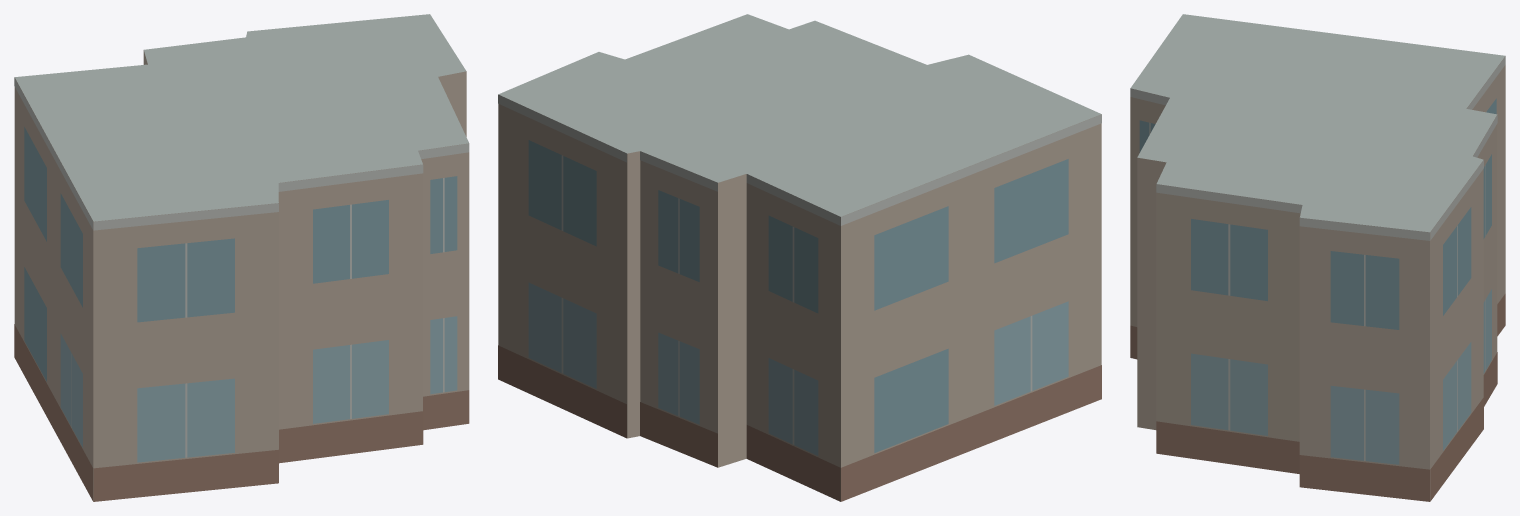
The model's file is survey-upis-32710867.glb.
3 views of the same model, side by side, from view 1: azimuth 30°, elevation 25°; view 2: azimuth 150°, elevation 25°; view 3: azimuth 270°, elevation 25° (orthographic). The views are drawn at different scales.
Parts seen in each view (by area): view 1: survey-upis-32710867.tmp; view 2: survey-upis-32710867.tmp; view 3: survey-upis-32710867.tmp.
Part boxes in pixels (x1,y1,x2,y2): survey-upis-32710867.tmp: [14, 14, 469, 501]; survey-upis-32710867.tmp: [498, 14, 1101, 501]; survey-upis-32710867.tmp: [1130, 14, 1505, 501].
Bounding box in the file's own units: 13.21 × 7.6 × 9.6.
